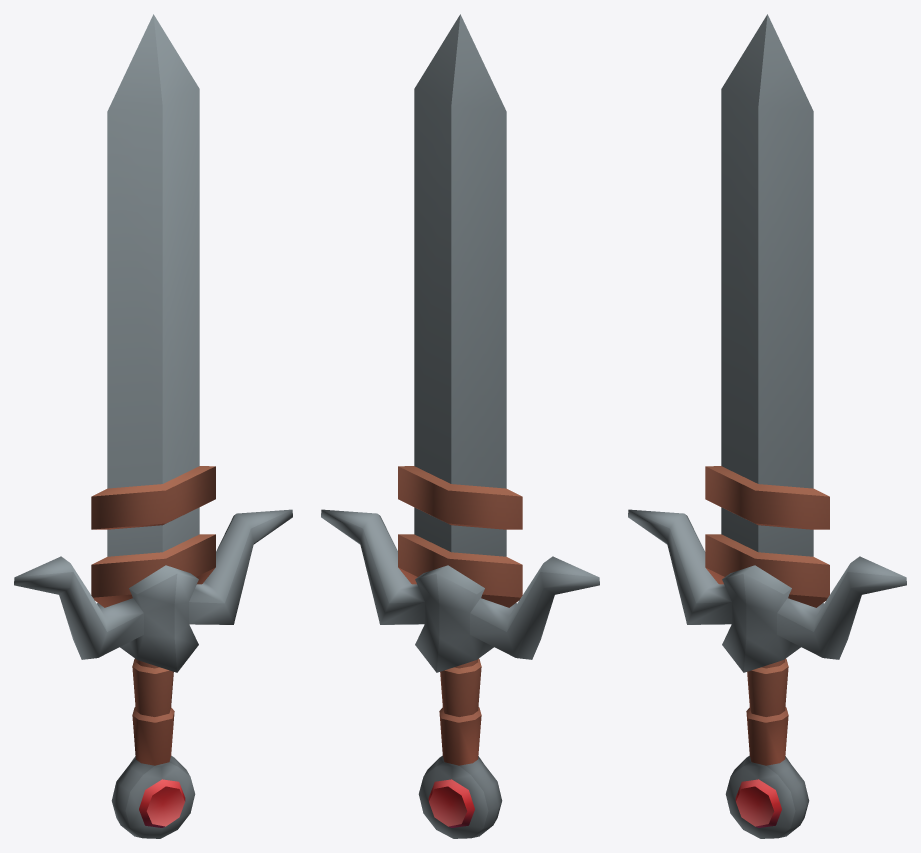
File: Fighter_Sword.glb
The picture shows the model from 3 angles, left to right: view 1: azimuth 30°, elevation 25°; view 2: azimuth 150°, elevation 25°; view 3: azimuth 330°, elevation 25°; orthographic projection.
Parts seen in each view (by area): view 1: sword_2handed; view 2: sword_2handed; view 3: sword_2handed.
Part boxes in pixels (x1,y1,x2,y2): sword_2handed: (14, 14, 292, 838); sword_2handed: (321, 14, 599, 838); sword_2handed: (628, 14, 906, 838).
Size of the model in its own units: 0.839 by 2.37 by 0.248.
Materials: 1 (1 with a texture image).
